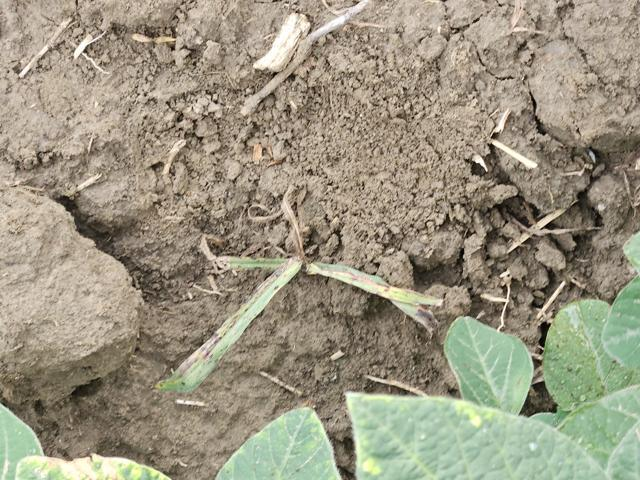bad weed: (159, 196, 446, 373)
